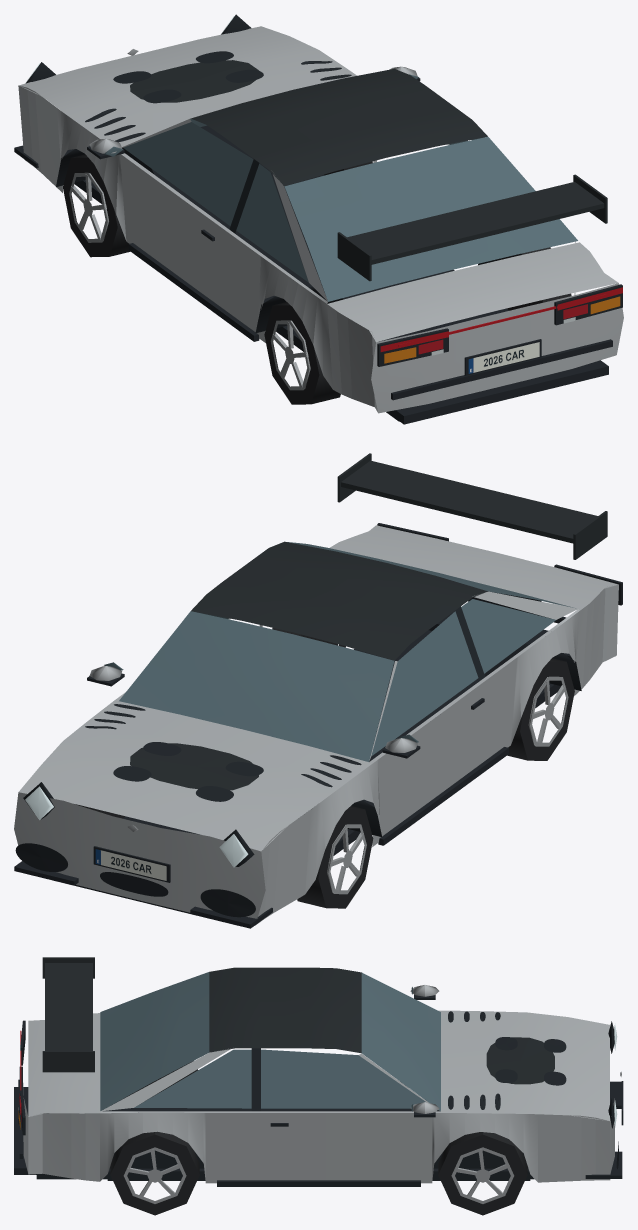
File: Entrega_27_LOD2.glb
The picture shows the model from 3 angles, top to bottom: view 1: azimuth 30°, elevation 25°; view 2: azimuth 150°, elevation 25°; view 3: azimuth 270°, elevation 25°; orthographic projection. The views are drawn at different scales.
Visible parts, largest first — view 1: Body, Glass, RearWing, Wheel_RL, Wheel_FL, TailLights, Plates; view 2: Body, Glass, RearWing, Wheel_FL, Wheel_RL, Plates, Headlights; view 3: Body, Glass, RearWing, Wheel_RR, Wheel_FR.
Boxes of the visible parts, <box> form: Body: <box>14,14,623,424</box>; Glass: <box>104,74,577,301</box>; RearWing: <box>337,174,607,281</box>; Wheel_RL: <box>264,302,340,404</box>; Wheel_FL: <box>63,154,130,257</box>; TailLights: <box>380,287,622,351</box>; Plates: <box>468,342,539,373</box>; Body: <box>14,523,622,928</box>; Glass: <box>104,541,575,761</box>; RearWing: <box>337,453,607,559</box>; Wheel_FL: <box>297,806,373,908</box>; Wheel_RL: <box>507,658,574,760</box>; Plates: <box>95,849,166,880</box>; Headlights: <box>25,786,248,867</box>; Body: <box>14,967,623,1186</box>; Glass: <box>100,972,440,1111</box>; RearWing: <box>42,957,94,1072</box>; Wheel_RR: <box>110,1131,199,1215</box>; Wheel_FR: <box>438,1132,527,1215</box>.
Bounding box in the file's own units: 2.28 × 1.32 × 4.57.
Materials: 11 (1 with a texture image).
